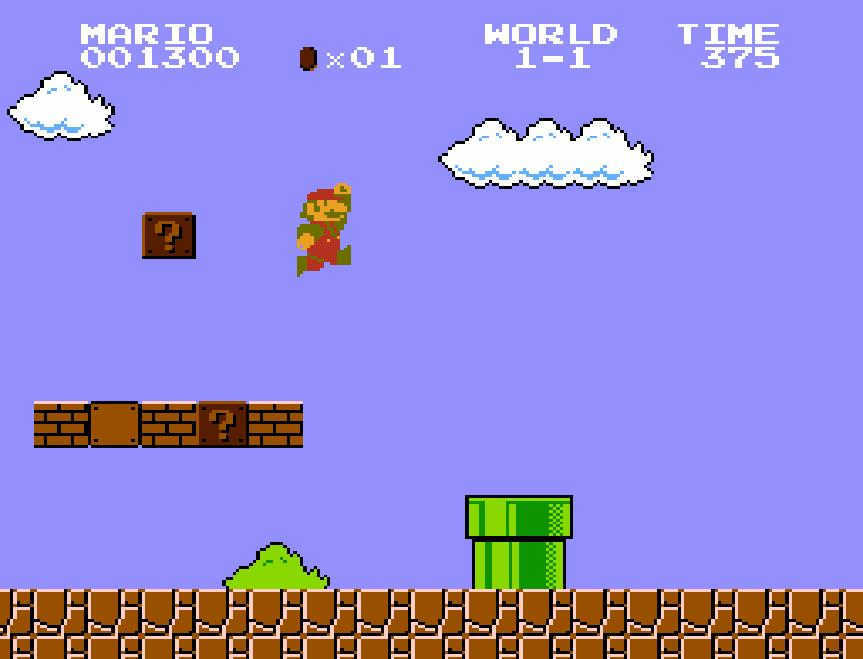big_mario: (294, 180, 352, 278)
